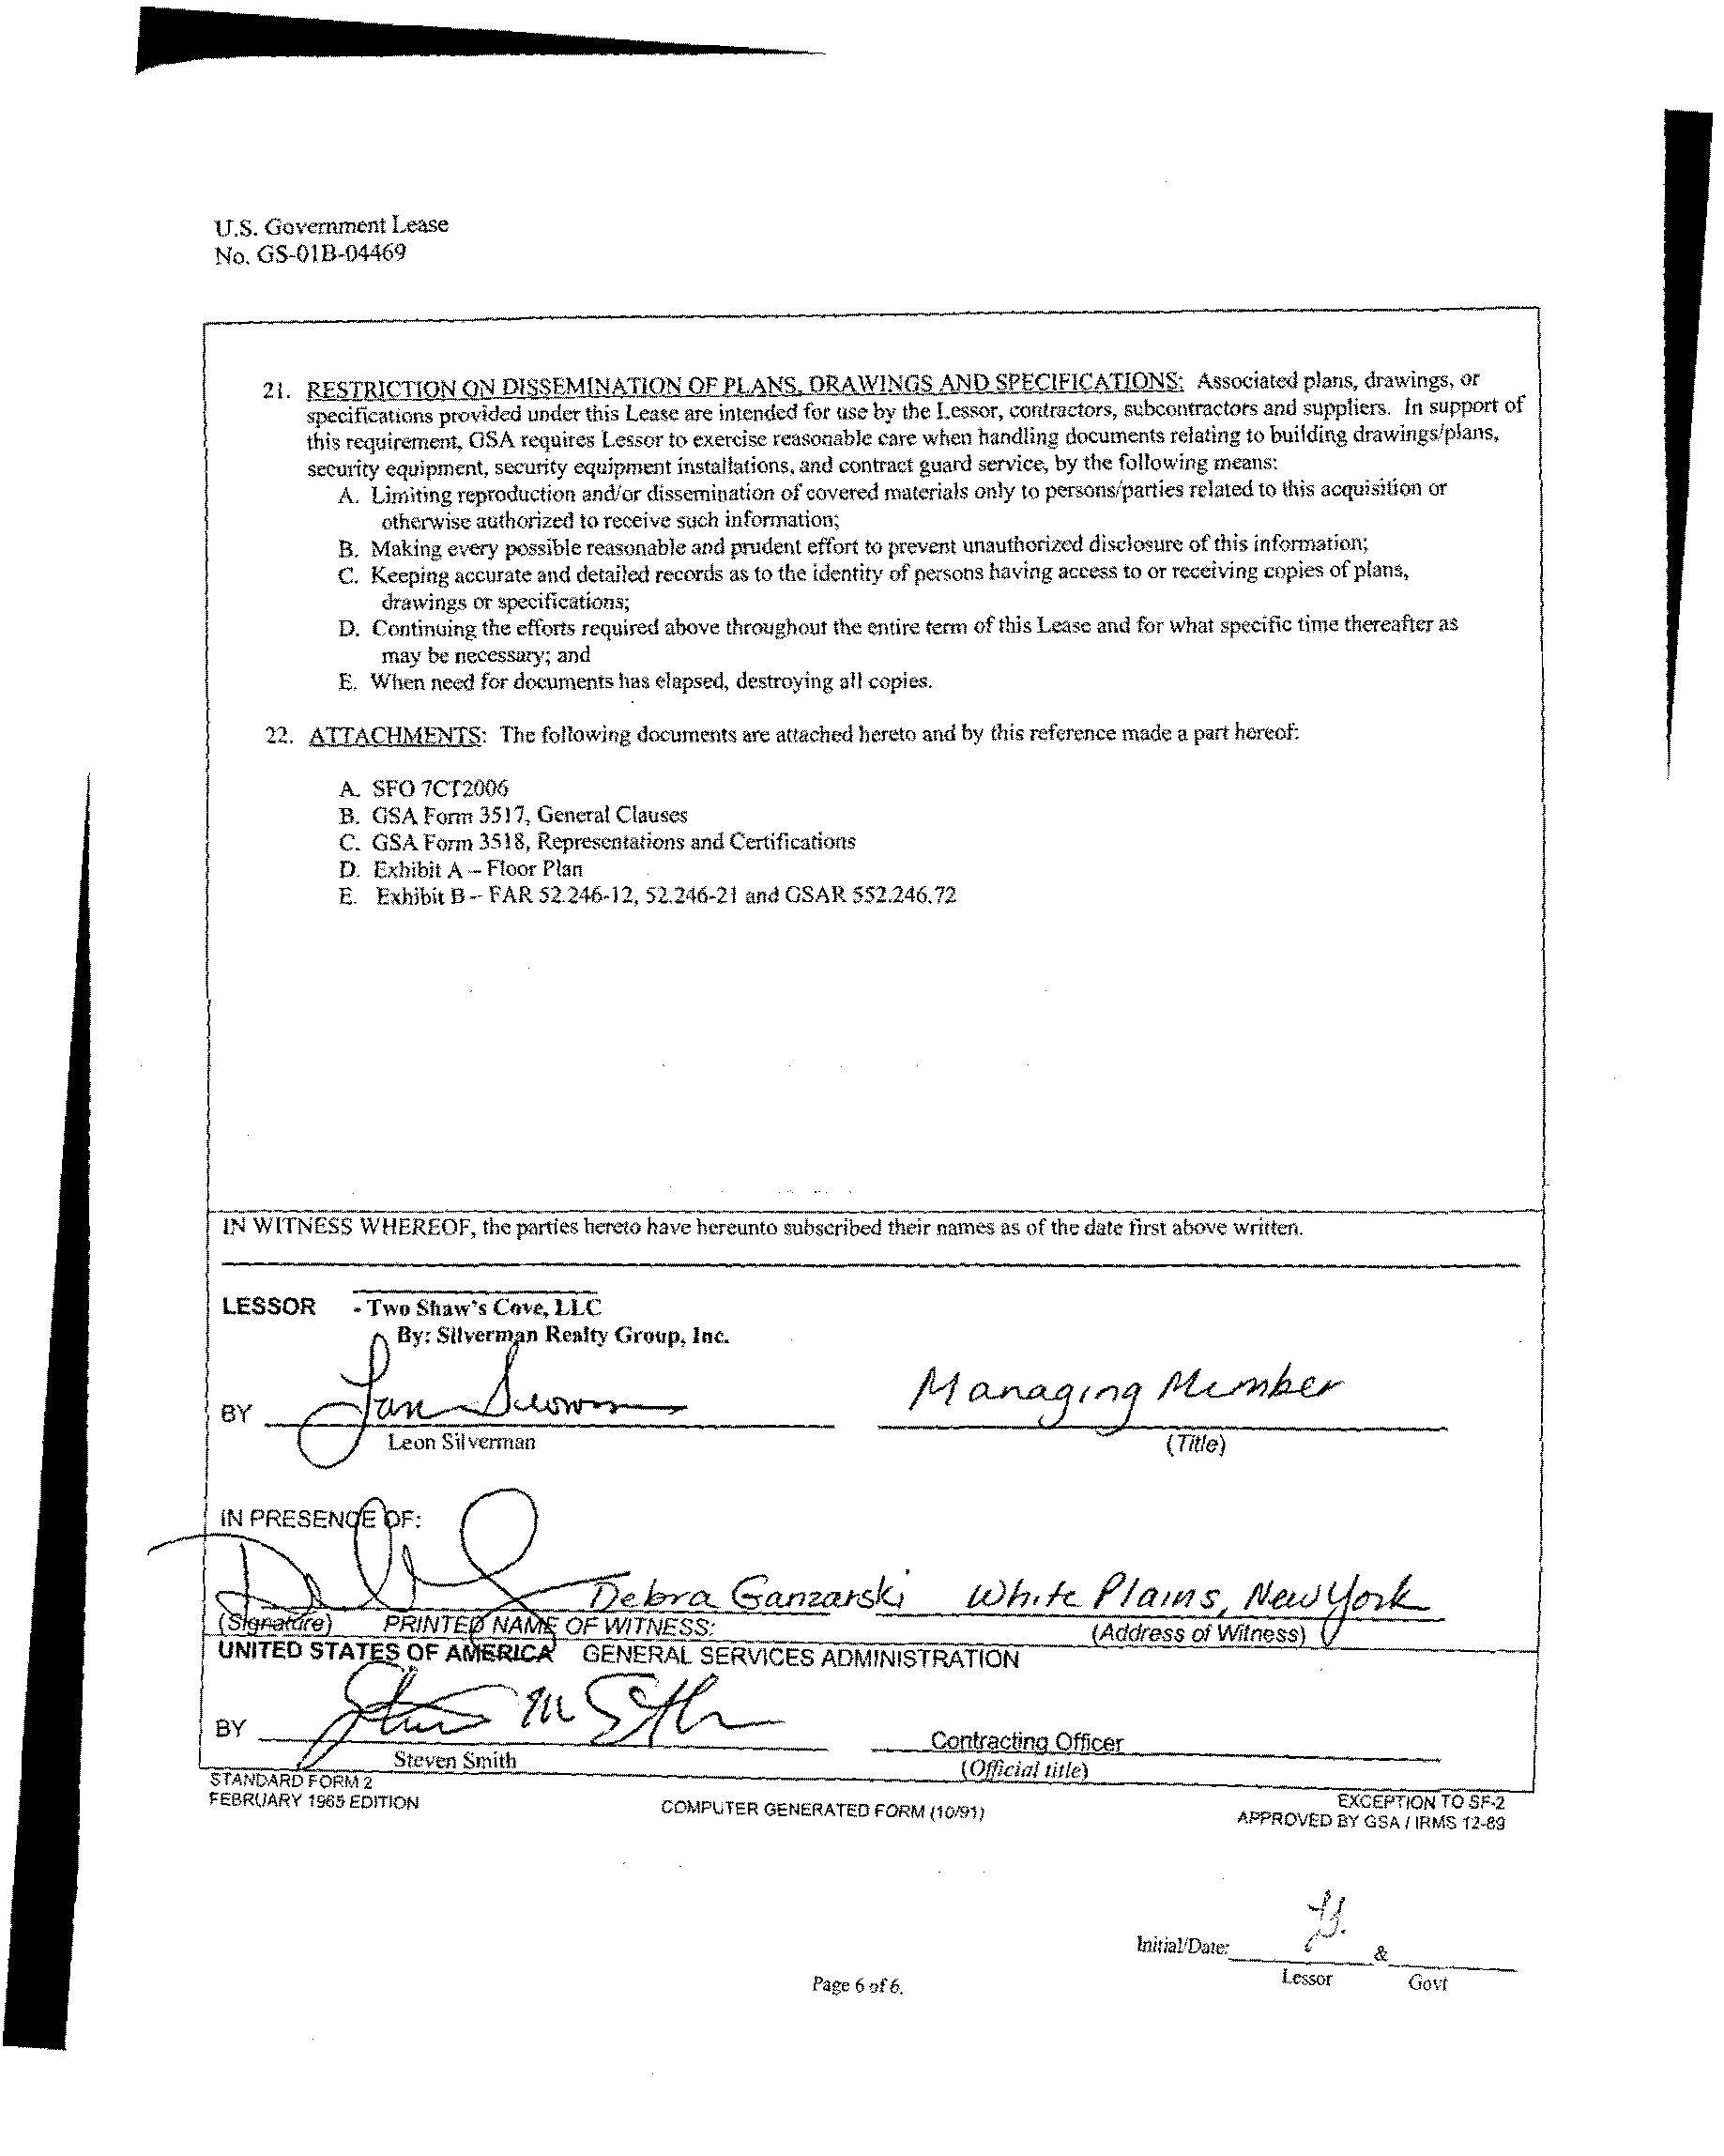handwritten: (137, 1533, 941, 1620), (888, 1329, 1370, 1426), (961, 1525, 1437, 1618), (285, 1657, 786, 1743), (297, 1338, 711, 1426), (1268, 1862, 1363, 1956)
